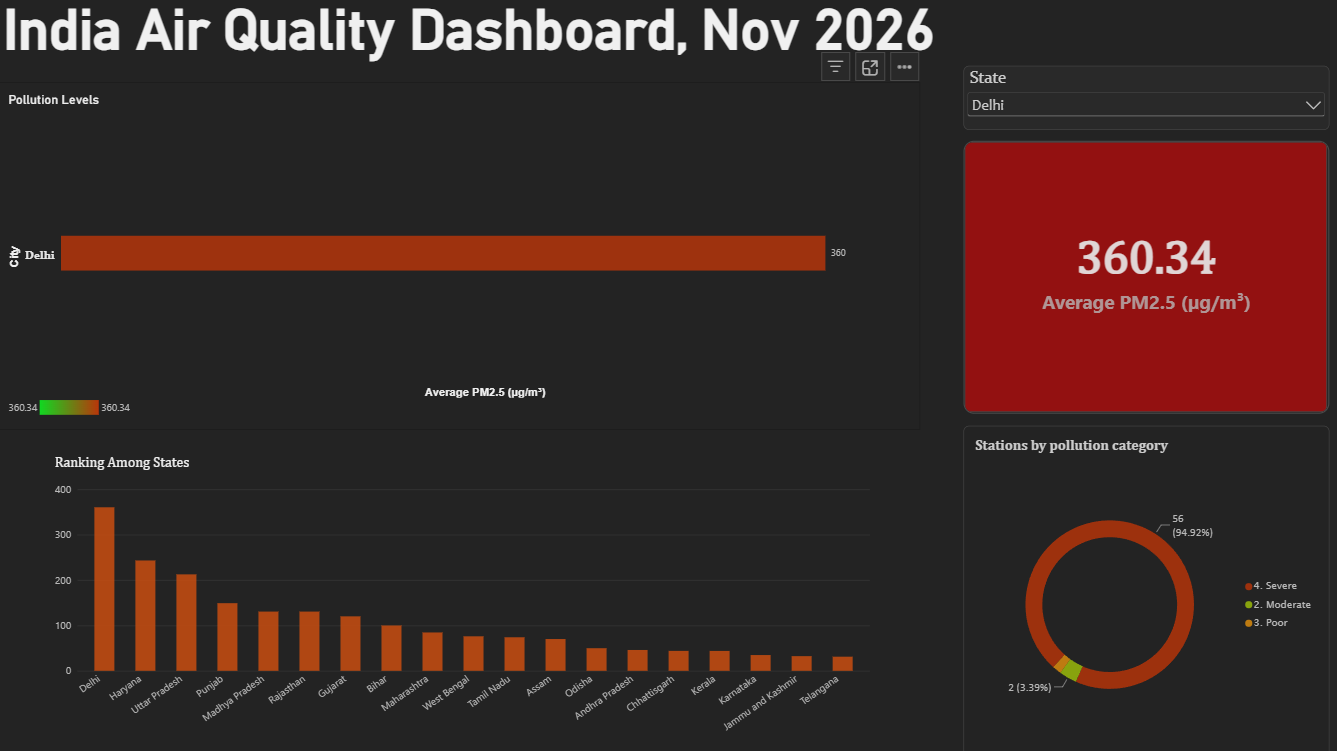

This screenshot's page, from the dashboard's own definition file:
{"tool":"powerbi","page":{"name":"Page 1","canvas":[1920,1080],"ordinal":0},"visuals":[{"type":"slicer","fields":{"Values":["air_quality v_states.state"]},"box":[1375,97.5,519.7,91.5],"z":0},{"type":"textbox","box":[10,0,1463.2,119],"z":1000},{"type":"cardVisual","fields":{"Data":["Avg(air_quality v_station_map.pm25)"]},"box":[1375,205,519.7,388.1],"z":2000},{"type":"clusteredBarChart","title":"Pollution Levels","fields":{"Category":["air_quality v_station_map.city"],"Y":["Avg(air_quality v_station_map.pm25)"]},"box":[2.5,120,1312.5,495],"z":3000},{"type":"donutChart","title":"Stations by pollution category","fields":{"Category":["air_quality v_pm25_category.category"],"Y":["Count(air_quality v_pm25_category.station)"]},"box":[1375,610,520,470],"z":4000},{"type":"clusteredColumnChart","title":"Ranking Among States","fields":{"Category":["air_quality v_state_rank.state"],"Y":["Avg(air_quality v_state_rank.avg_pm25)"]},"box":[67.5,635,1190,445],"z":5000}]}

Visuals, with their boxes in screenshot pixels (x1, y1, x2, y2), scaled from the page's 1920x1080 canvas onto the 1337x751 screenshot:
slicer - air_quality v_states.state: x1=957 y1=68 x2=1319 y2=131
textbox: x1=7 y1=0 x2=1026 y2=83
cardVisual - Avg(air_quality v_station_map.pm25): x1=957 y1=143 x2=1319 y2=412
"Pollution Levels" clusteredBarChart: x1=2 y1=83 x2=916 y2=428
"Stations by pollution category" donutChart: x1=957 y1=424 x2=1320 y2=750
"Ranking Among States" clusteredColumnChart: x1=47 y1=442 x2=876 y2=750
